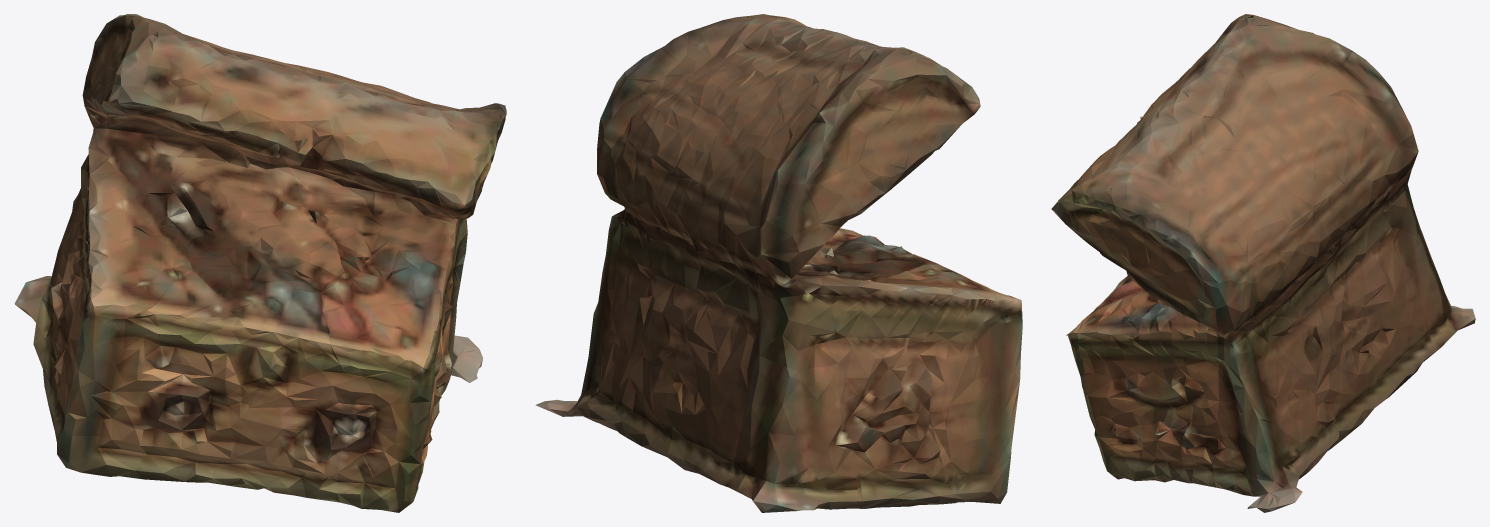
Rendered from daycare_toybox.glb.
3 renders of one model, left to right at view 1: azimuth 30°, elevation 25°; view 2: azimuth 150°, elevation 25°; view 3: azimuth 270°, elevation 25°, orthographic. The views are drawn at different scales.
Visible parts, largest first — view 1: geometry_0; view 2: geometry_0; view 3: geometry_0.
Boxes of the visible parts, bbox=[...] form: geometry_0: bbox=[14, 14, 506, 512]; geometry_0: bbox=[535, 14, 1022, 512]; geometry_0: bbox=[1051, 14, 1475, 512].
Size of the model in its own units: 0.391 by 0.4 by 0.3883.
1 material, 1 textured.
